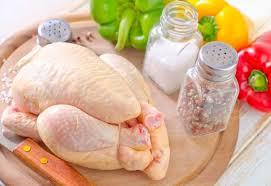chicken: (1, 12, 73, 52)
